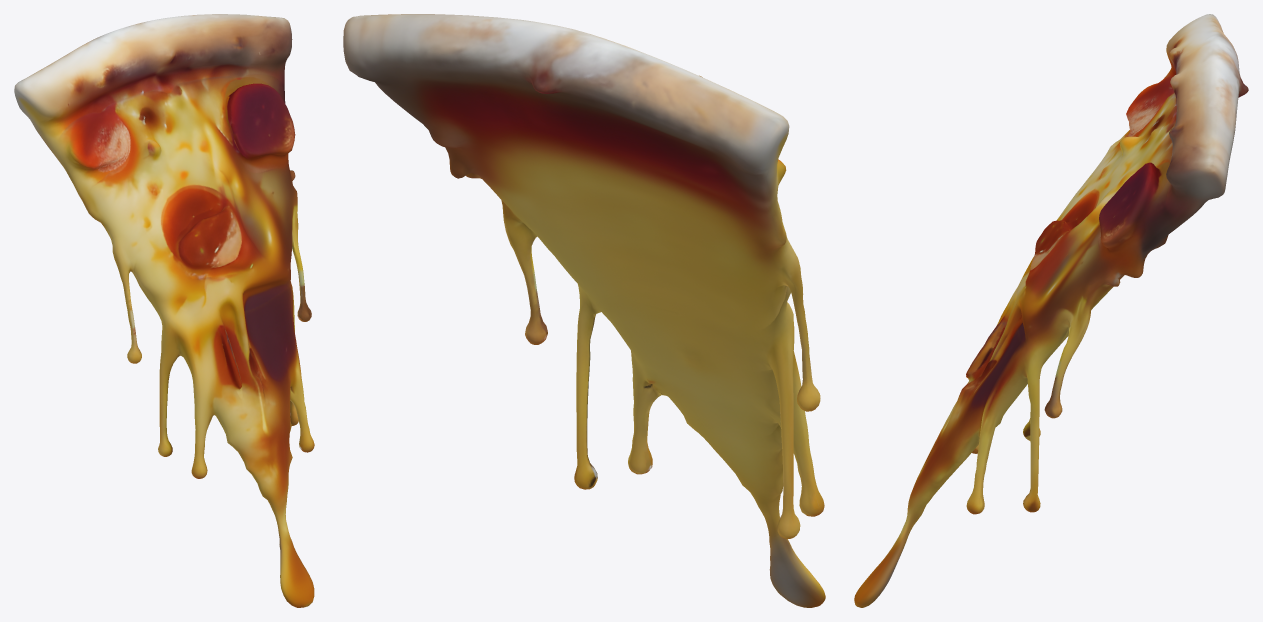
The model's file is Pizza.glb.
3 views of the same model, side by side, from view 1: azimuth 30°, elevation 25°; view 2: azimuth 150°, elevation 25°; view 3: azimuth 270°, elevation 25° (orthographic). The views are drawn at different scales.
Visible parts, largest first — view 1: model; view 2: model; view 3: model.
Part boxes in pixels (x1=…): model: x1=14, y1=14, x2=314, y2=607; model: x1=343, y1=14, x2=825, y2=607; model: x1=854, y1=14, x2=1248, y2=607.
Bounding box in the file's own units: 1.12 × 1.85 × 1.21.
Materials: 1 (1 with a texture image).
